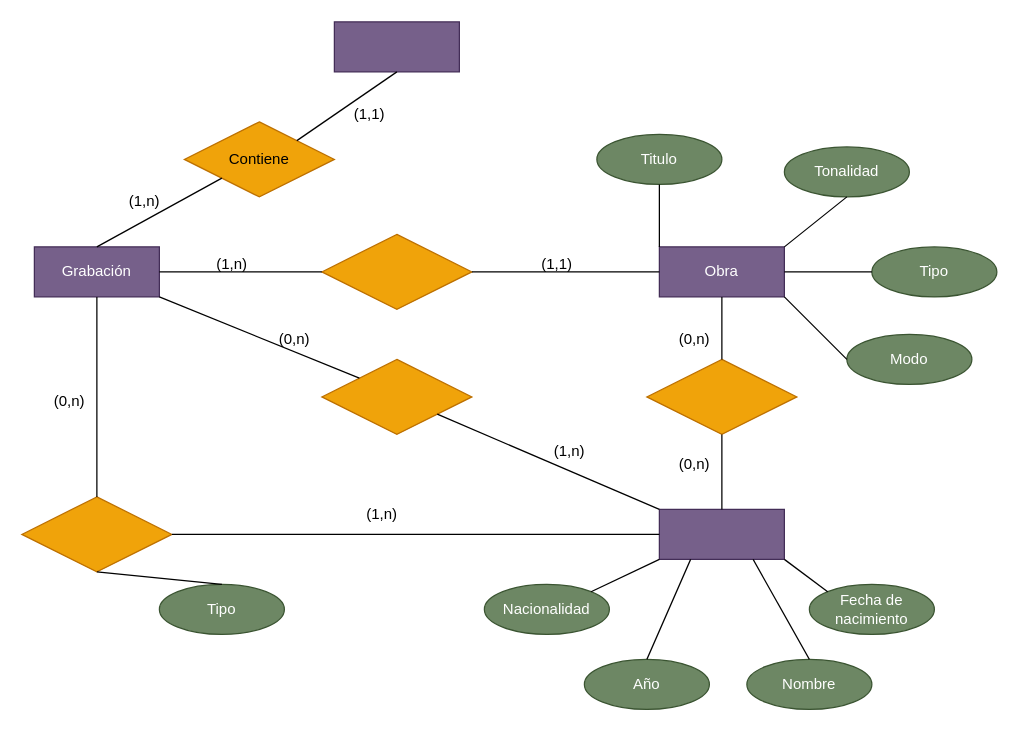
Some shapes in this 1019 by 731 pixel diagram are drawn without their labels. The shapes that lost their labels are listed below. From the top down, each one's centre as x and y in pixels, then its label:
the point at 396,46: Disco
the point at 396,271: ejemplar de
the point at 396,396: Dirige
the point at 721,396: Autor
the point at 96,534: Interpreta
the point at 721,533: Persona
